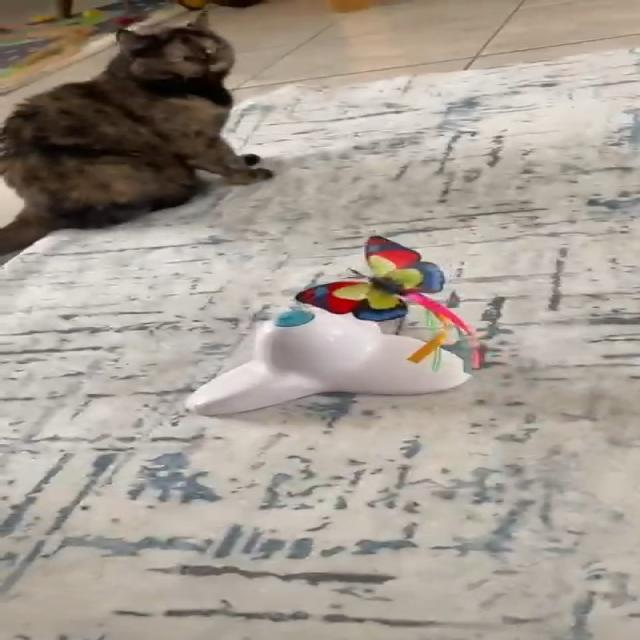authorized: (0, 8, 273, 261)
